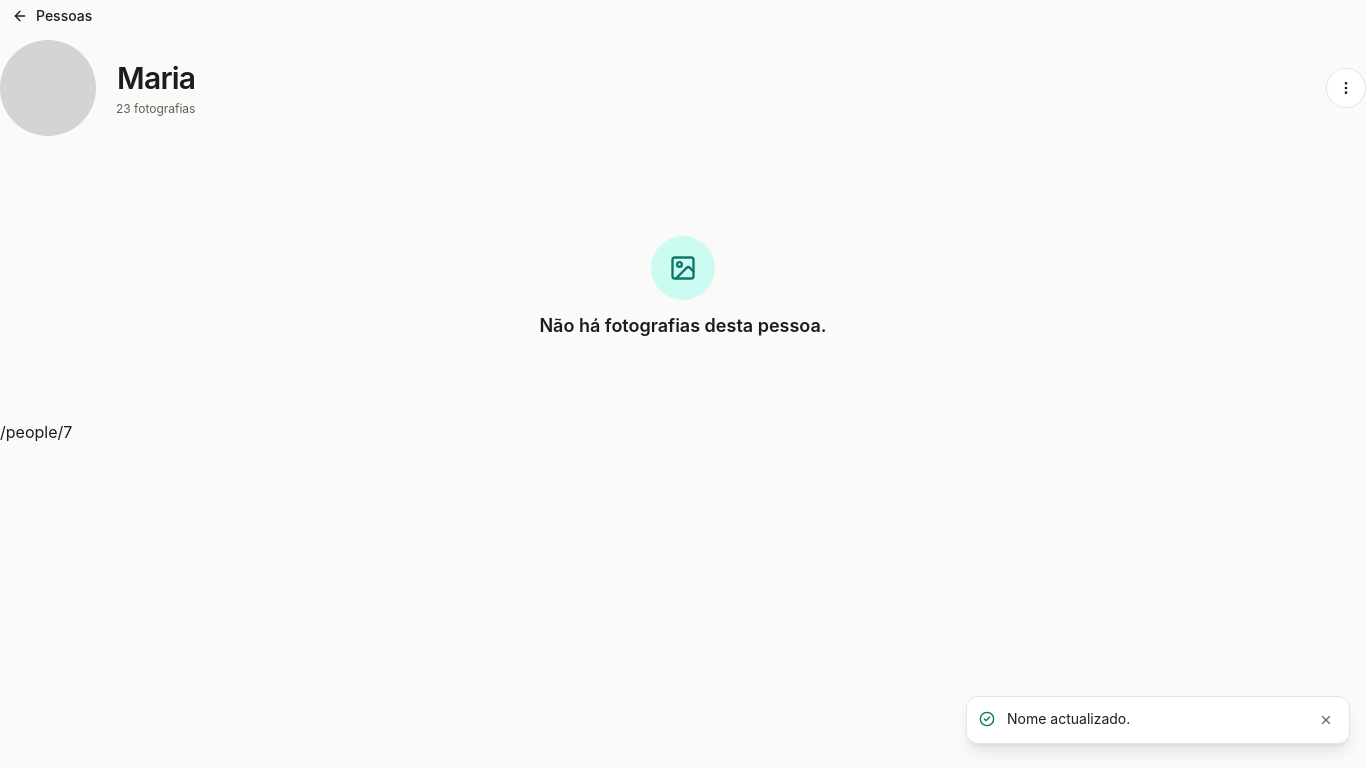
PersonPage › requires typing EXCLUIR before excluding from recognition
Click the button named "Mais acções" at (1346,88), box [1326, 68, 1365, 108]
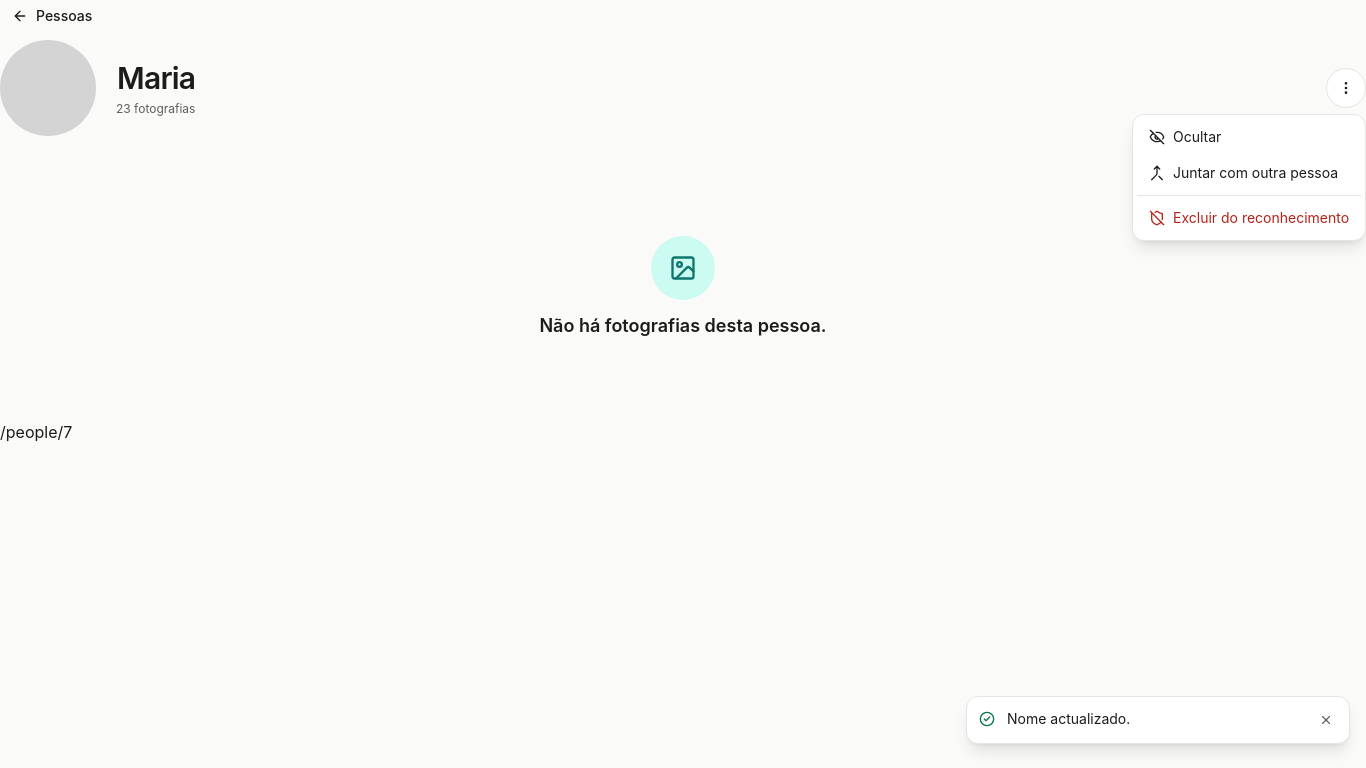
Click the menu item "Excluir do reconhecimento" at (1249,218), box [1149, 209, 1349, 226]
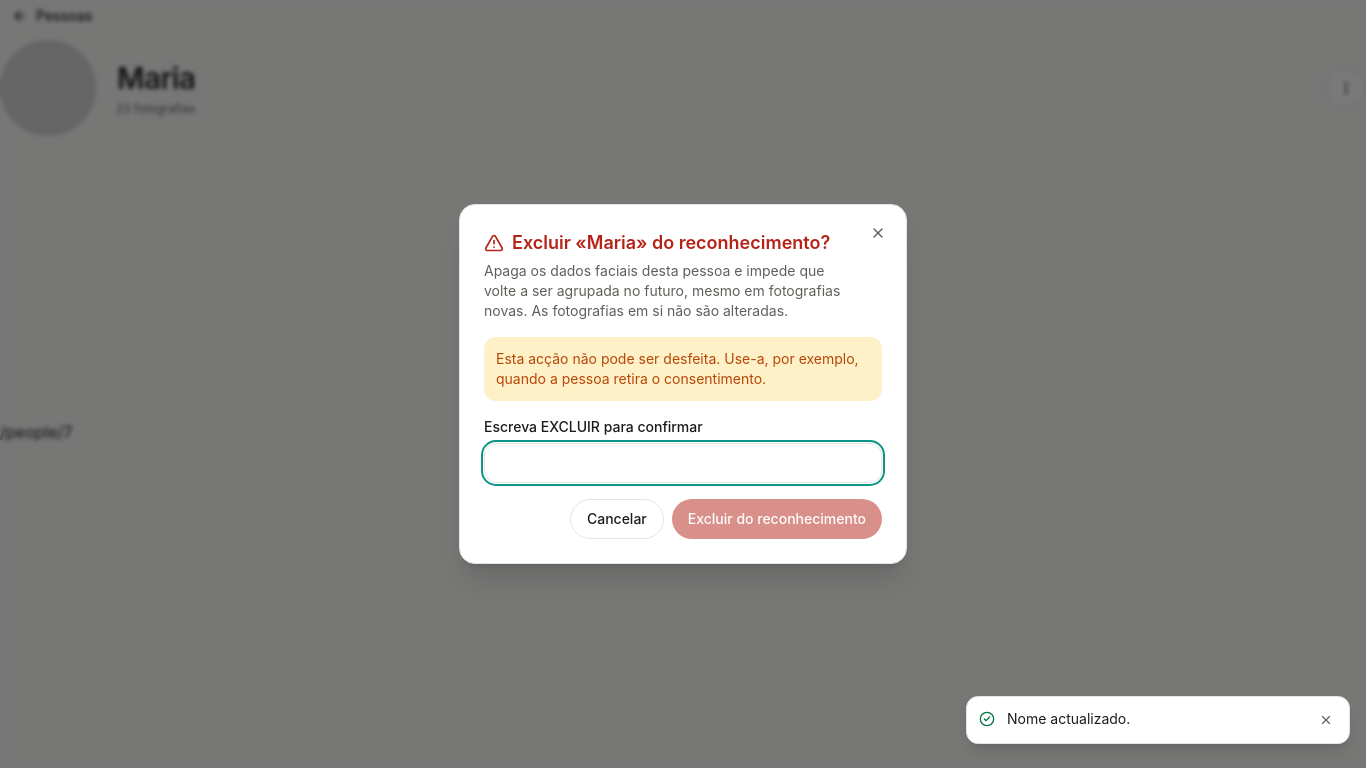
Check: the button "Excluir do reconhecimento" is disabled, box [672, 499, 882, 539]
Check: the dialog shows "impede", box [484, 262, 840, 319]
Type "excluir" into the field labelled "Escreva EXCLUIR para confirmar" at (683,463), box [484, 443, 882, 483]
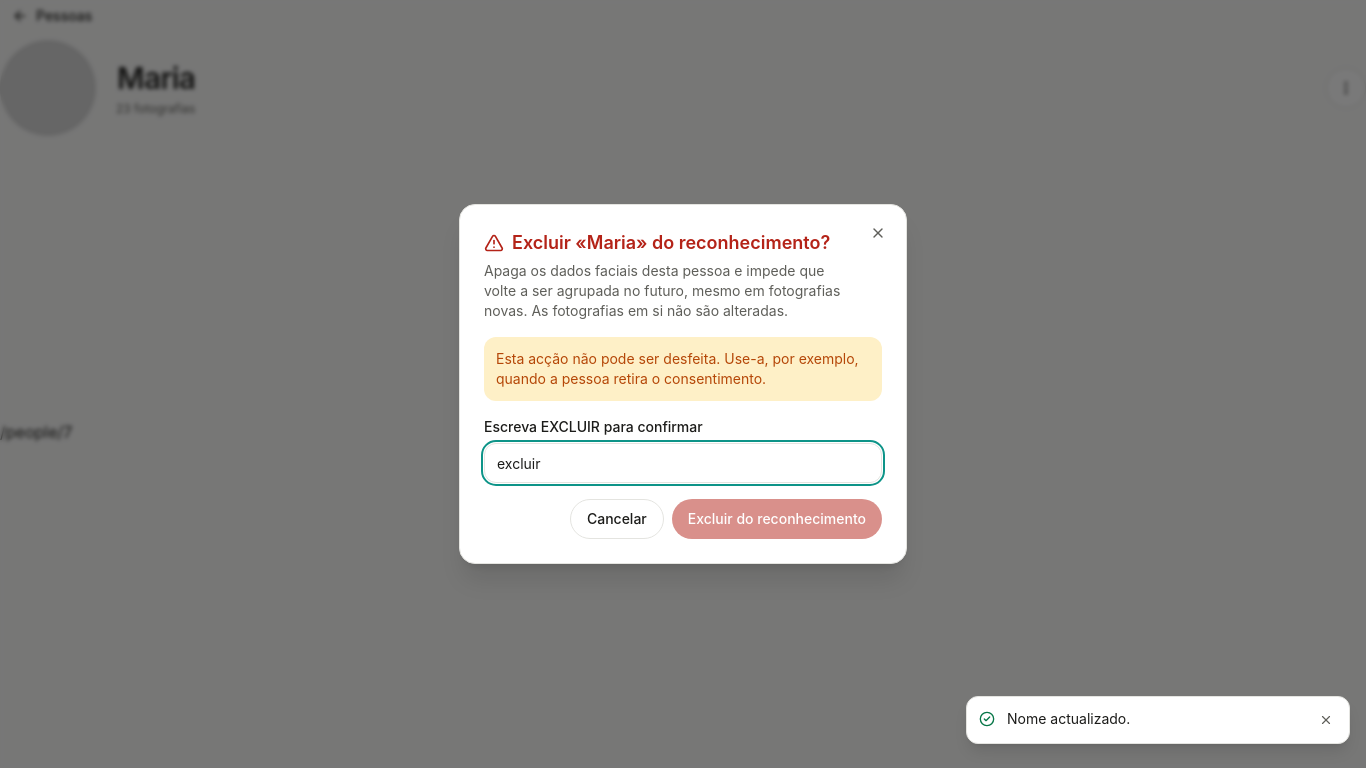
Replace the text in the field labelled "Escreva EXCLUIR para confirmar" with "EXCLUIR" at (683,463), box [484, 443, 882, 483]
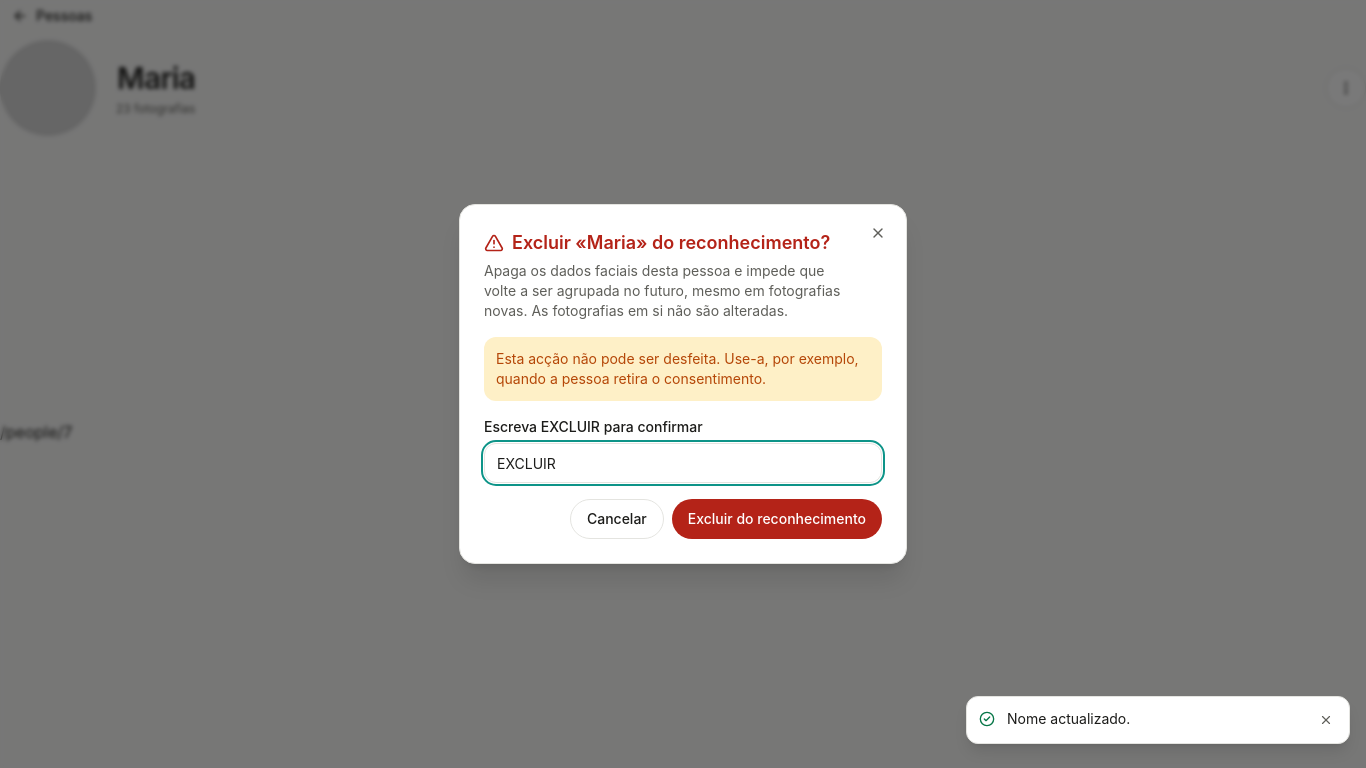
Click the button "Excluir do reconhecimento" at (777,519), box [672, 499, 882, 539]
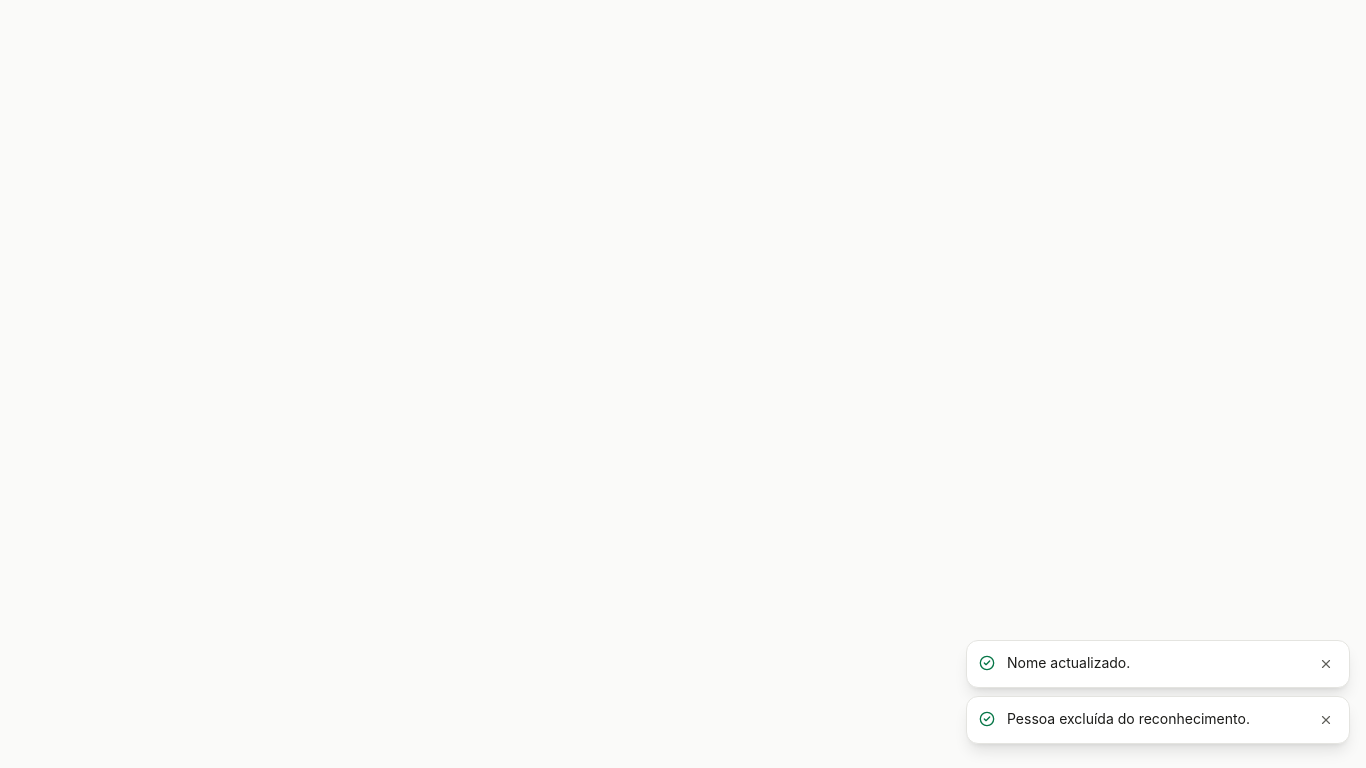
Check: the text "Pessoa excluída do reconhecimento." is shown, box [1007, 710, 1250, 727]
